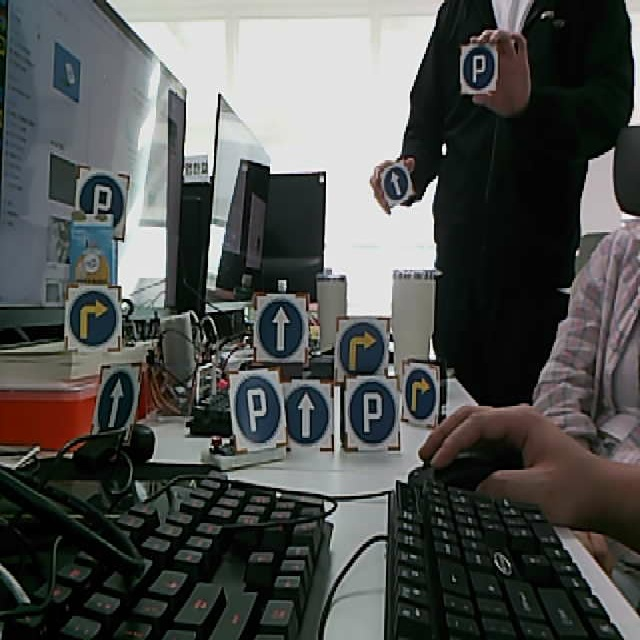parking: (227, 367, 289, 453), (70, 166, 130, 243), (459, 42, 498, 96)
right: (334, 315, 392, 383), (63, 284, 120, 353), (400, 361, 442, 431)
straight: (90, 363, 143, 443), (276, 379, 335, 450), (255, 293, 309, 364), (374, 159, 415, 210)
